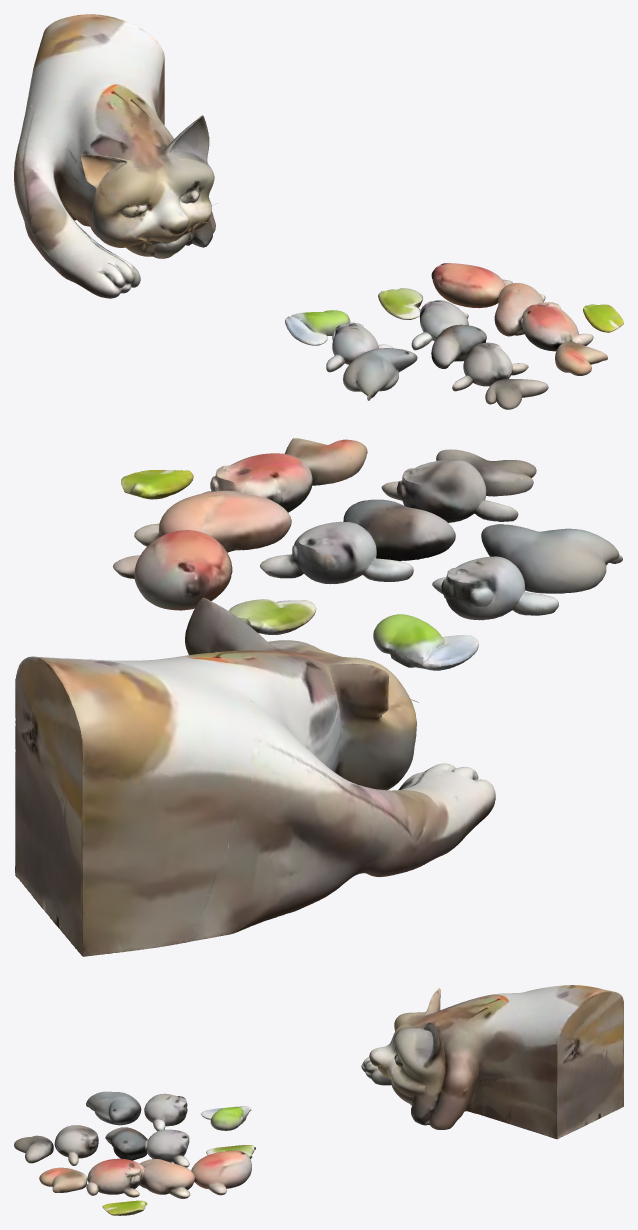
The model's file is Play-optimized.glb.
3 views of the same model, one above another, from view 1: azimuth 30°, elevation 25°; view 2: azimuth 150°, elevation 25°; view 3: azimuth 270°, elevation 25° (orthographic). The views are drawn at different scales.
Visible parts, largest first — view 1: model; view 2: model; view 3: model.
Boxes of the visible parts, <box> form: model: <box>14,14,623,409</box>; model: <box>15,438,622,956</box>; model: <box>14,985,623,1215</box>.
Bounding box in the file's own units: 1.06 × 0.4062 × 1.78.
Materials: 1 (1 with a texture image).
